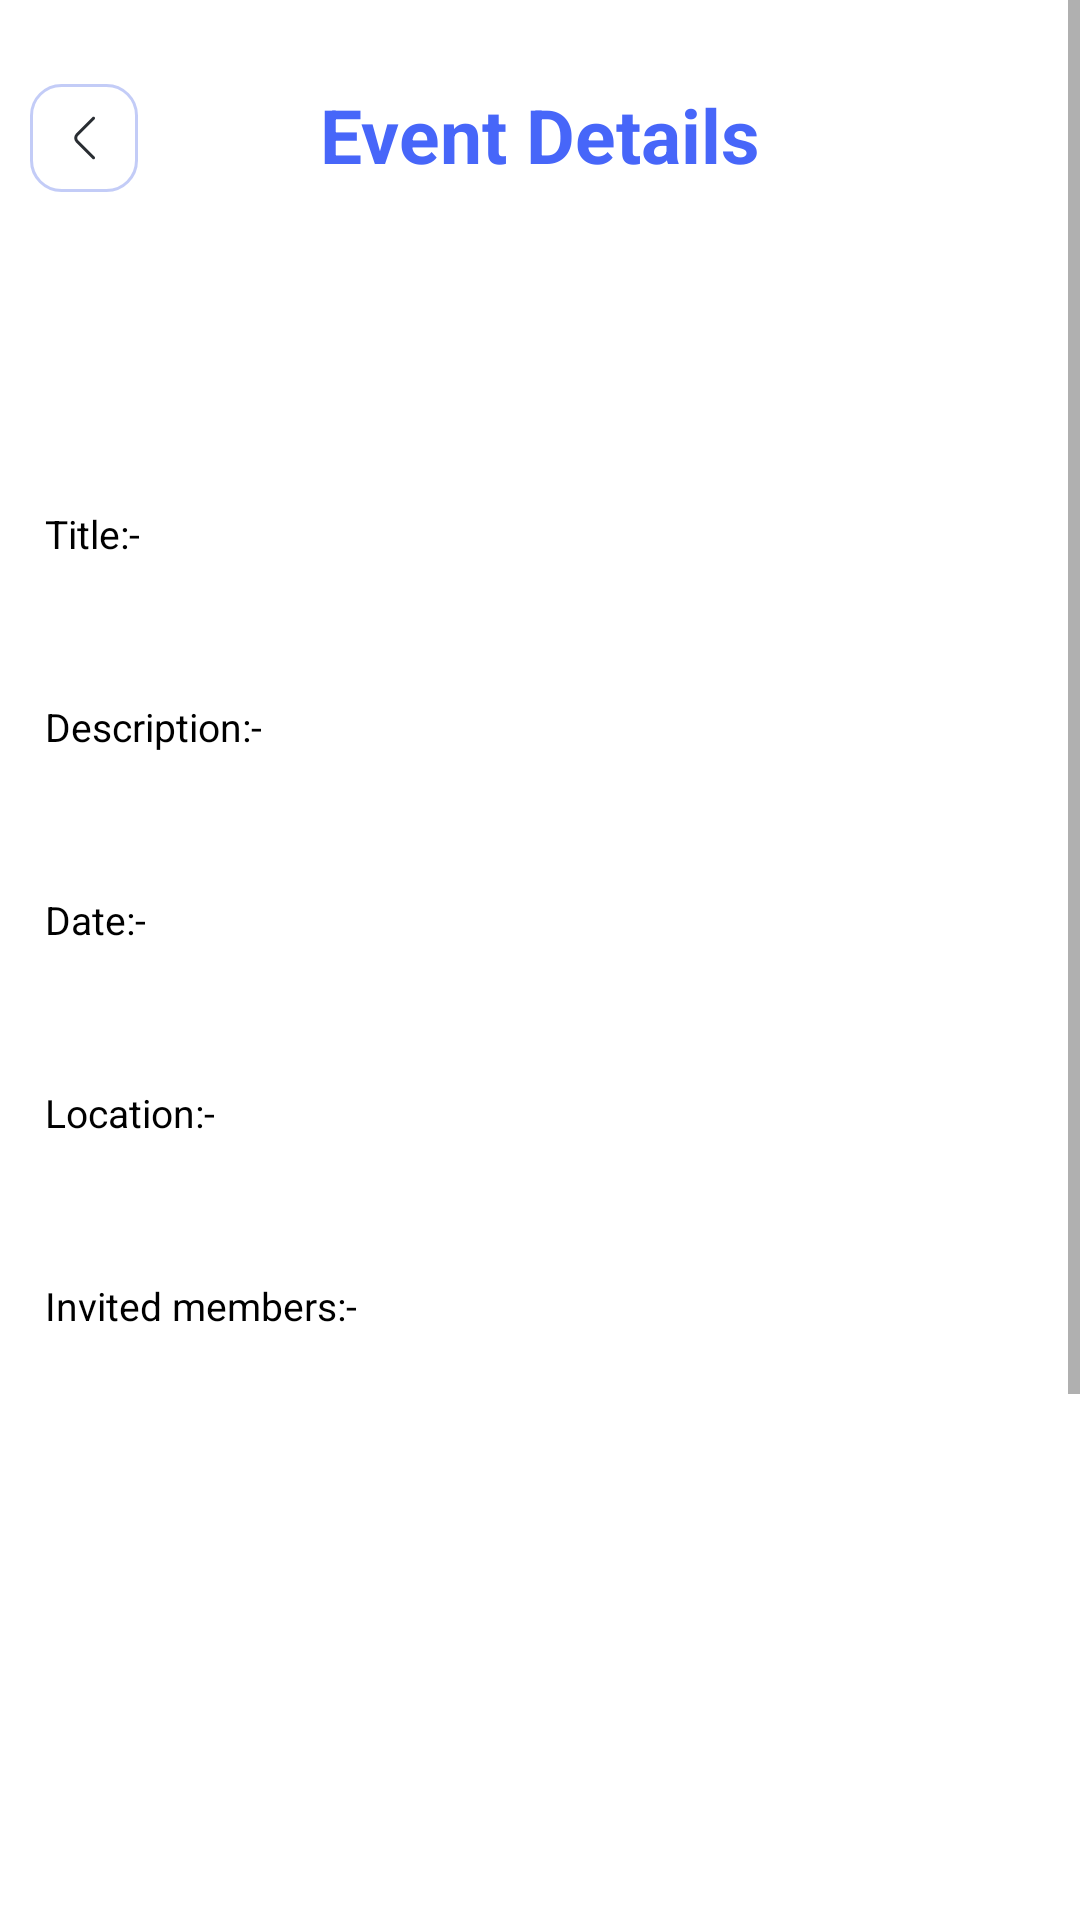

Locate icon controls on the screen. Image size 1080px×1920px, boxes as (x1, y1, x2, y2).
back arrow: (30, 84, 138, 192)
